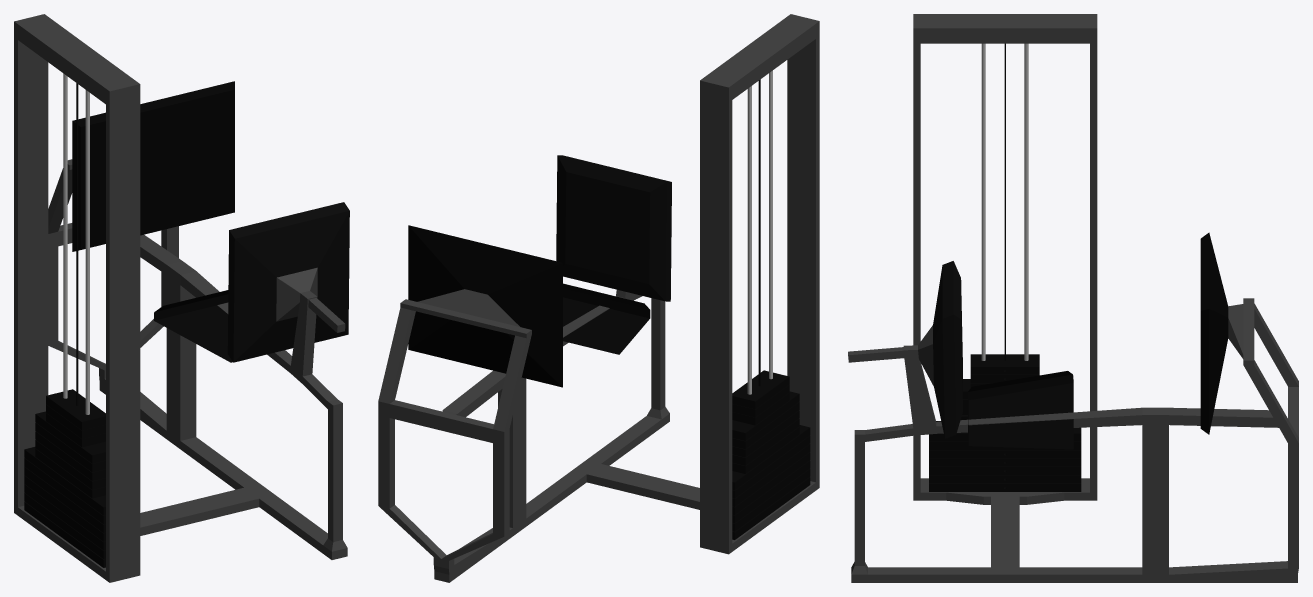
File: LegPressMachine.001.fbx
3 views of the same model, side by side, from view 1: azimuth 30°, elevation 25°; view 2: azimuth 150°, elevation 25°; view 3: azimuth 270°, elevation 25° (orthographic). The views are drawn at different scales.
Visible parts, largest first — view 1: LegPressMachine.001; view 2: LegPressMachine.001; view 3: LegPressMachine.001.
Part boxes in pixels (x1,y1,x2,y2): LegPressMachine.001: (14,14,349,582); LegPressMachine.001: (378,14,819,582); LegPressMachine.001: (848,14,1298,582).
Size of the model in its own units: 86.09 by 145 by 125.
